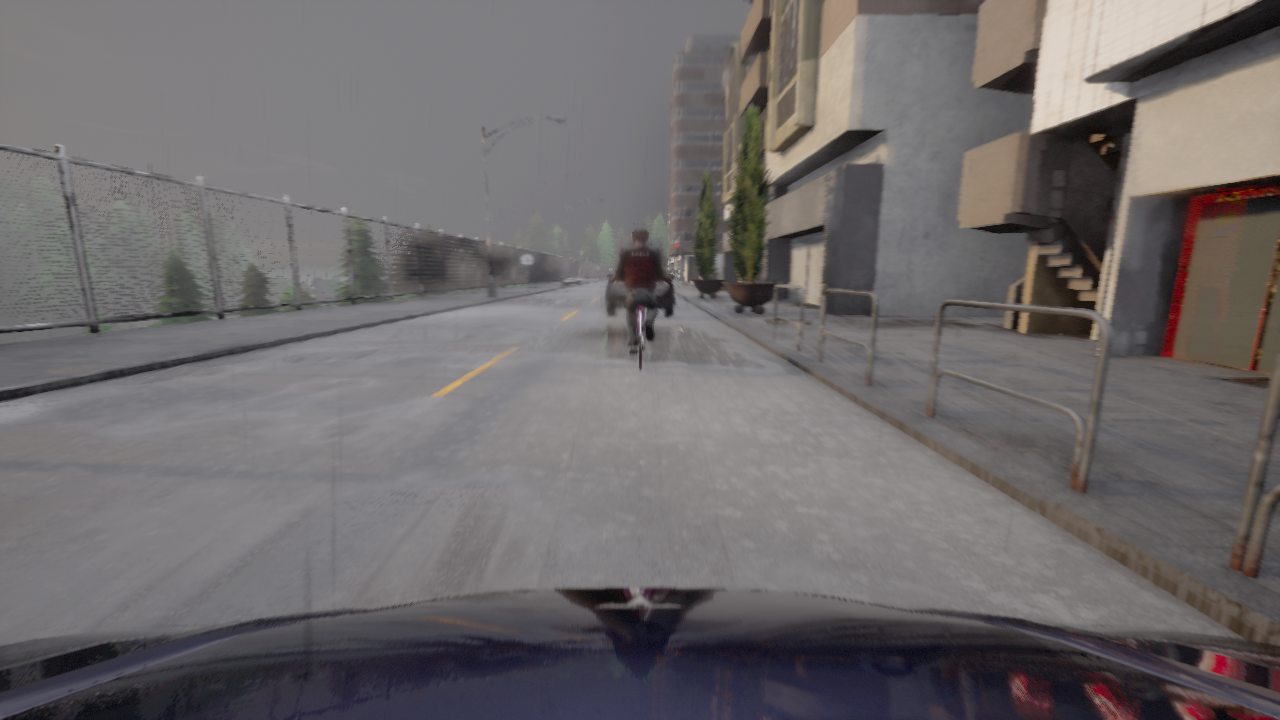cyclist: (0, 588, 1279, 719), (606, 265, 673, 316), (615, 238, 664, 268), (630, 305, 644, 369)
pedestrian: (713, 264, 716, 278), (710, 268, 713, 278)
